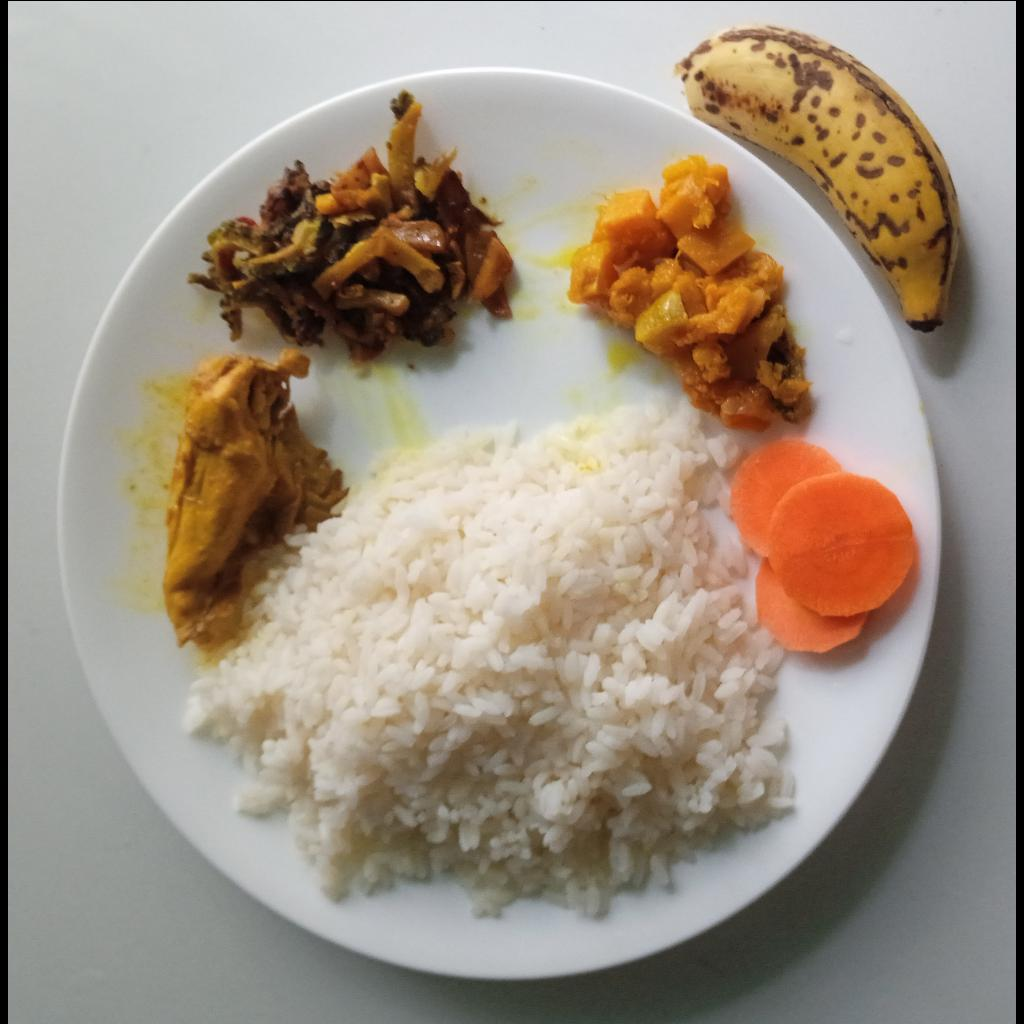banana: (680, 22, 963, 330)
carrot: (730, 438, 919, 654)
chicken: (160, 346, 346, 650)
korola-vaji: (189, 88, 515, 368)
kumra-vaji: (566, 153, 813, 431)
rice: (184, 399, 798, 923)
